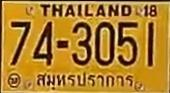0: (94, 21, 114, 65)
1: (147, 22, 153, 66)
3: (71, 21, 91, 65)
4: (32, 20, 52, 64)
5: (117, 21, 137, 65)
7: (10, 20, 30, 64)
SPK: (32, 70, 137, 92)
